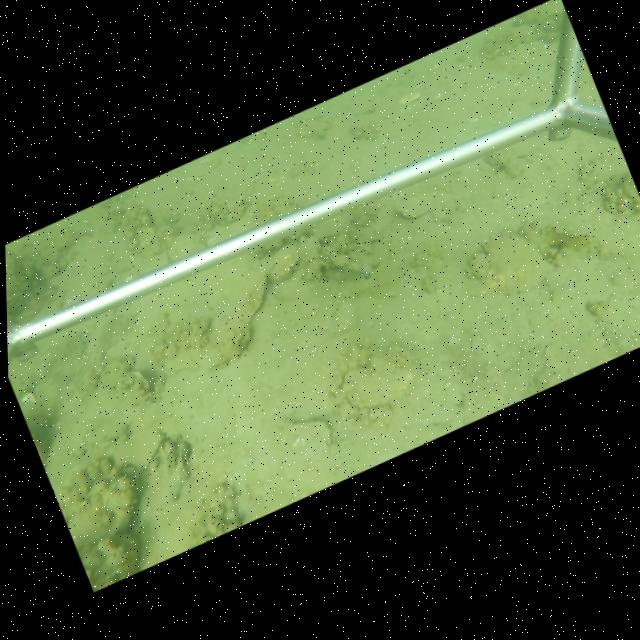Oyster-Closed: (267, 241, 302, 283), (161, 442, 174, 466)
Oyster-Indeterminate: (339, 344, 417, 410), (473, 231, 552, 295), (239, 252, 274, 320), (396, 185, 453, 219), (165, 231, 209, 262), (299, 234, 323, 282)
Oyster-Open: (177, 440, 195, 478)
